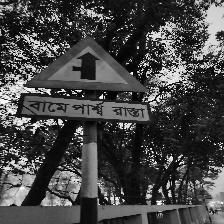Side-road-left: (18, 35, 153, 126)
